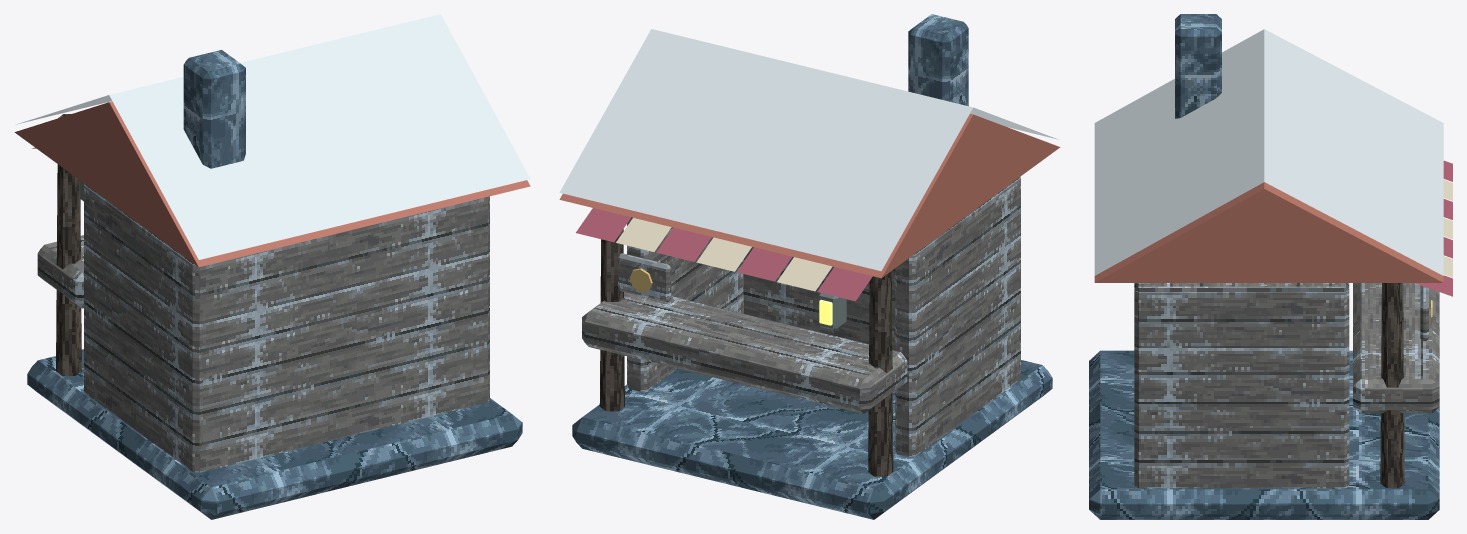
The model's file is loja_mascate.glb.
3 views of the same model, side by side, from view 1: azimuth 30°, elevation 25°; view 2: azimuth 150°, elevation 25°; view 3: azimuth 270°, elevation 25° (orthographic). The views are drawn at different scales.
Visible parts, largest first — view 1: neve_loja_mascate; view 2: neve_loja_mascate; view 3: neve_loja_mascate.
Boxes of the visible parts, x1,y1,x2,y2 form: neve_loja_mascate: [14, 14, 530, 519]; neve_loja_mascate: [559, 14, 1060, 519]; neve_loja_mascate: [1089, 14, 1452, 519].
Size of the model in its own units: 1.92 by 2.26 by 1.93.
Materials: 10 (3 with a texture image).
